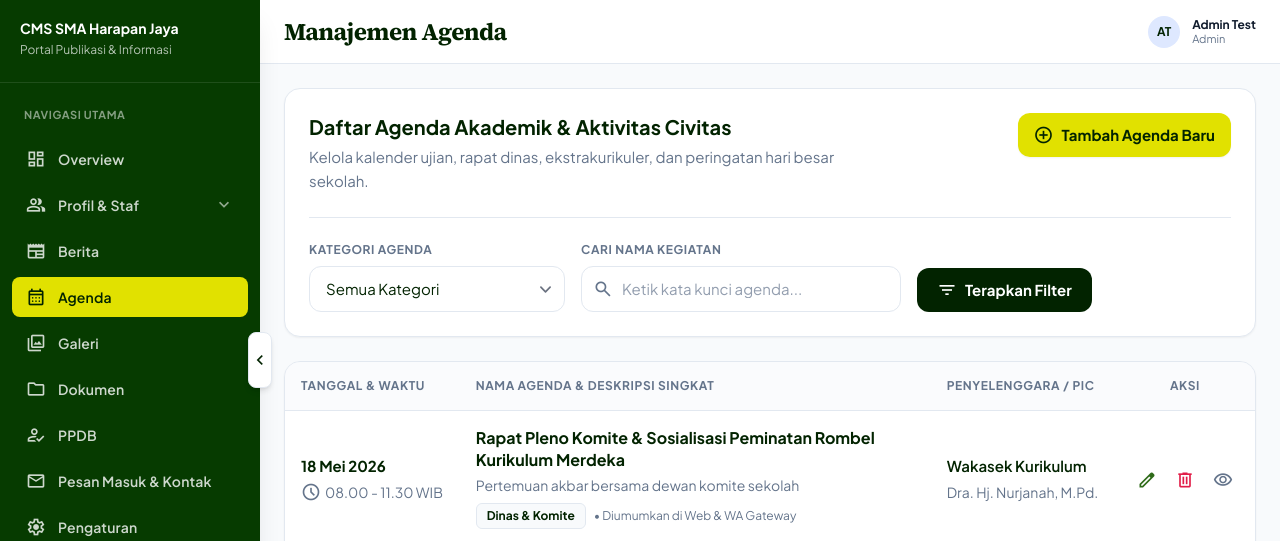
Test: Admin · Kelola Agenda Page › filter kategori menyaring baris agenda dan tombol reset mengembalikannya
This screenshot has width=1280, height=541.
expect the text "Rapat Pleno Komite & Sosialisasi Peminatan Rombel Kurikulum Merdeka" is shown: met, box 476,427 -> 915,471
Note: Pilih kategori "Akademik & Ujian"
Select "Akademik & Ujian" in the dropdown labelled "Kategori Agenda": (437, 289) 309,266 -> 565,312
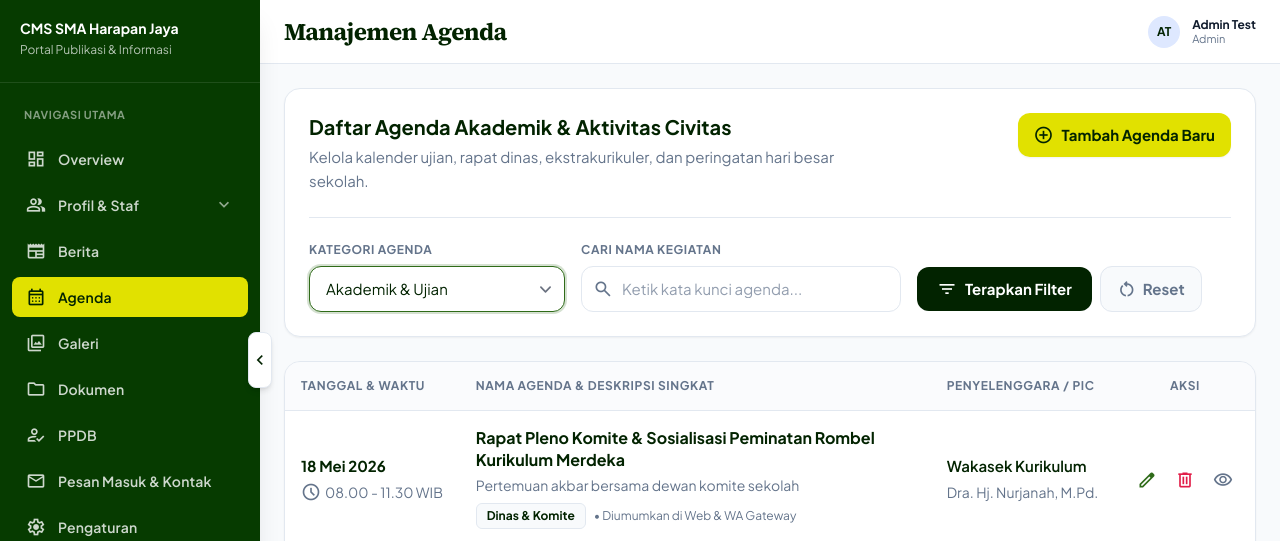
Click the button "Terapkan Filter": (1004, 289) 917,267 -> 1092,311
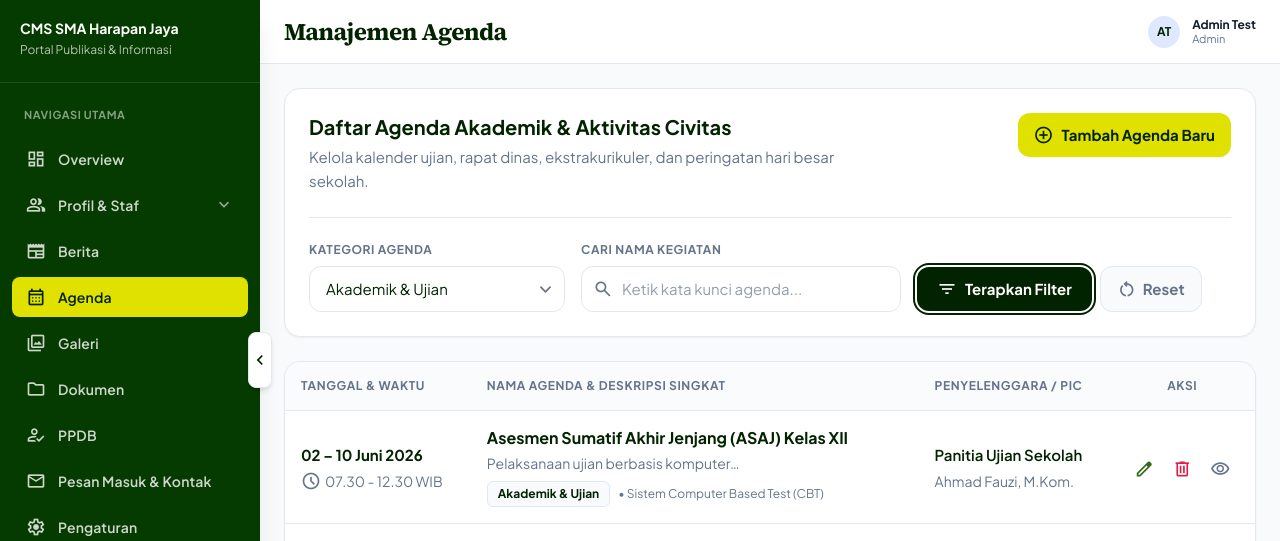
expect the button "Reset" is shown: met
expect the text "Asesmen Sumatif Akhir Jenjang (ASAJ) Kelas XII" is shown: met, box 487,427 -> 903,449
Note: Klik tombol reset
Click the button "Reset": (1151, 289) 1100,266 -> 1202,312
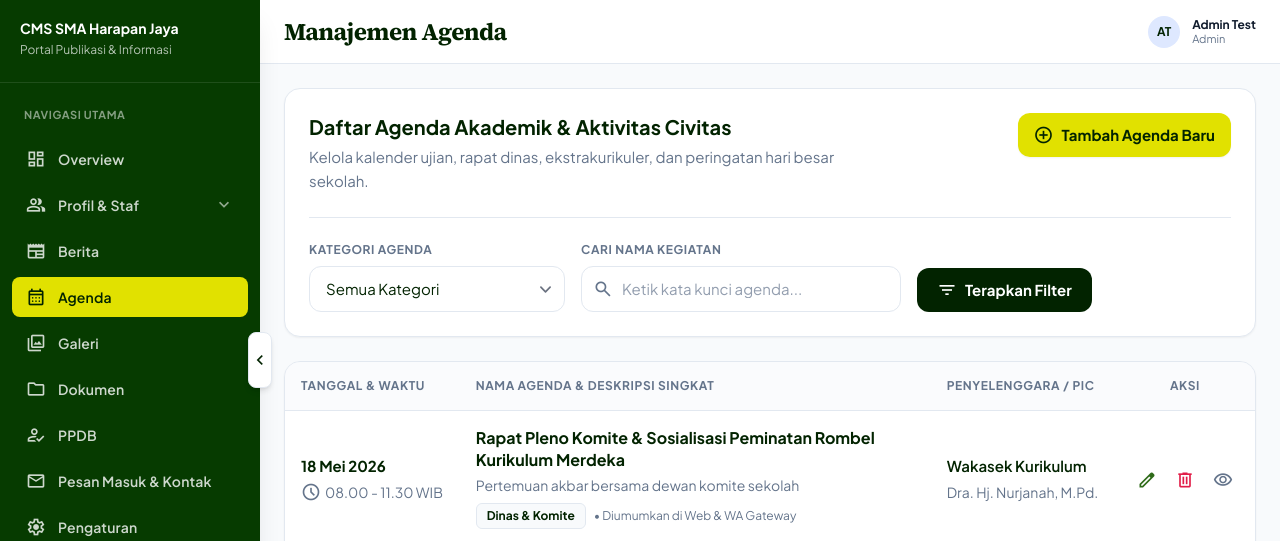
expect the text "Rapat Pleno Komite & Sosialisasi Peminatan Rombel Kurikulum Merdeka" is shown: met, box 476,427 -> 915,471
